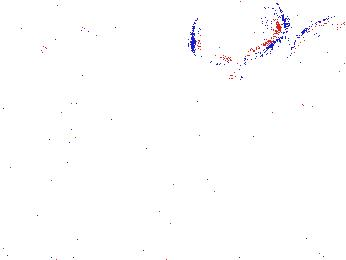moon jellyfish: (191, 1, 285, 63), (74, 1, 175, 54), (289, 16, 346, 108), (14, 6, 94, 63)
